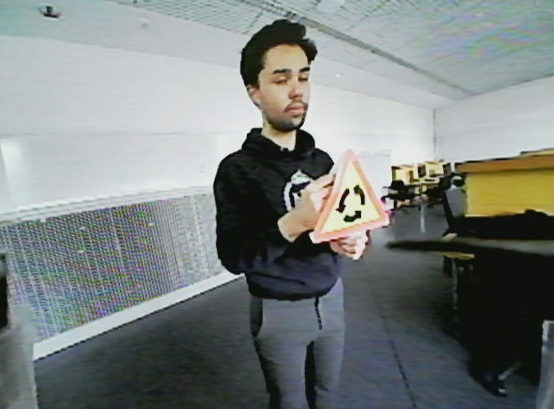roundabout_warning: (307, 145, 392, 244)
